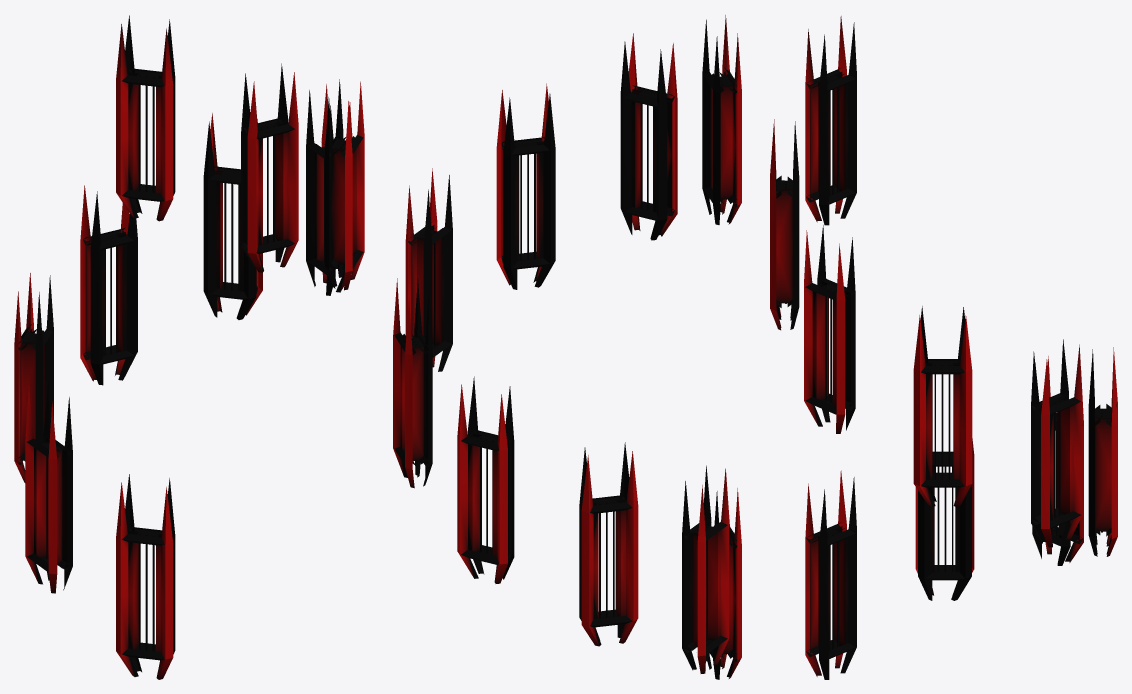
The model's file is TowerUpperWindows_export.obj.
3 views of the same model, side by side, from view 1: azimuth 30°, elevation 25°; view 2: azimuth 150°, elevation 25°; view 3: azimuth 270°, elevation 25° (orthographic).
Visible parts, largest first — view 1: TowerUpperWindows; view 2: TowerUpperWindows; view 3: TowerUpperWindows.
Part boxes in pixels (x1,y1,x2,y2): TowerUpperWindows: (14,15,364,679); TowerUpperWindows: (393,15,741,679); TowerUpperWindows: (770,16,1117,679).
Size of the model in its own units: 5.55 by 11.43 by 5.55.
